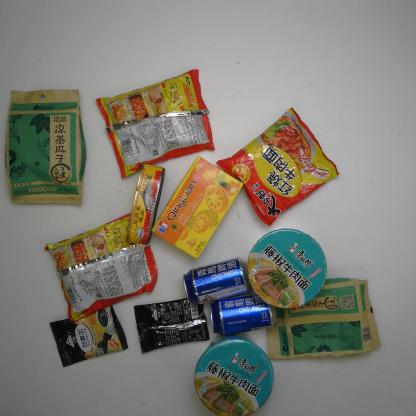Alcohol: (182, 256, 250, 305), (208, 293, 279, 336)
Canned Food: (127, 162, 166, 246)
Dessert: (149, 155, 245, 261)
Dried Food: (264, 274, 382, 362), (3, 87, 89, 207)
Instant Drink: (48, 304, 129, 368), (133, 296, 211, 354)
Instant Noodles: (214, 107, 340, 227), (95, 68, 215, 178), (43, 212, 159, 324), (192, 331, 276, 416), (245, 226, 329, 310)
